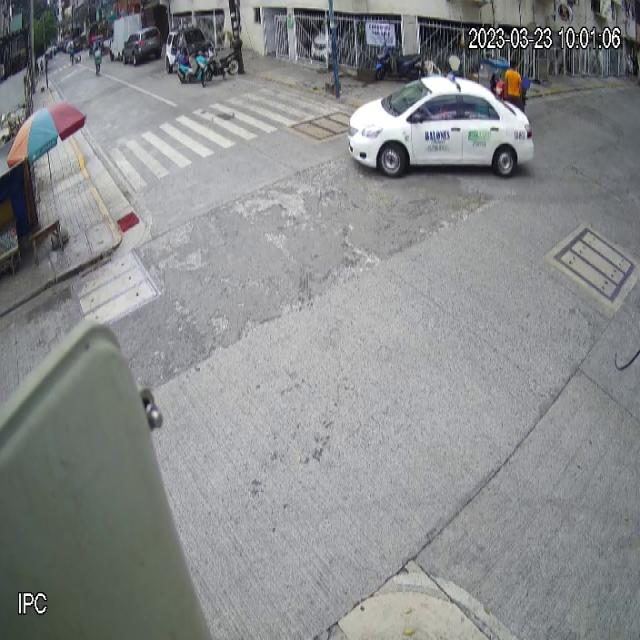Car: (349, 72, 535, 178)
